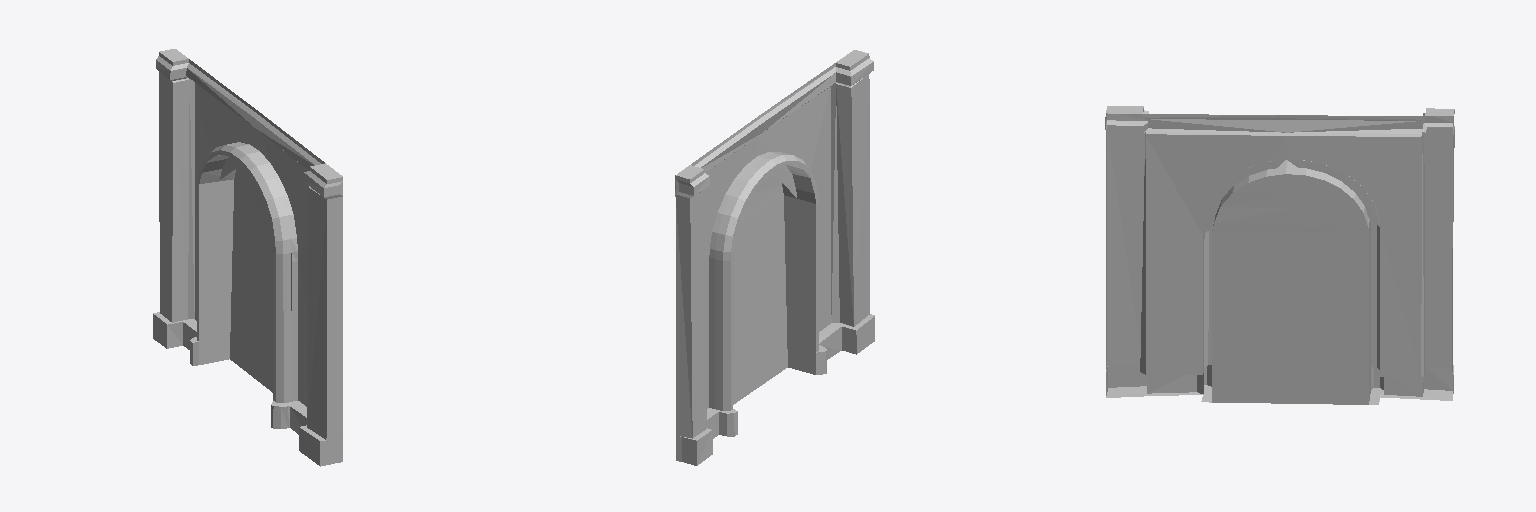
The model's file is GrandHall_Arches.obj.
The picture shows the model from 3 angles: view 1: azimuth 30°, elevation 25°; view 2: azimuth 150°, elevation 25°; view 3: azimuth 270°, elevation 25°; orthographic projection.
Parts seen in each view (by area): view 1: Arch_9; view 2: Arch_9; view 3: Arch_9.
Part boxes in pixels (bbox=[...]): Arch_9: bbox=[153, 49, 342, 466]; Arch_9: bbox=[675, 50, 874, 465]; Arch_9: bbox=[1105, 106, 1454, 404].
Size of the model in its own units: 51.92 by 310 by 344.